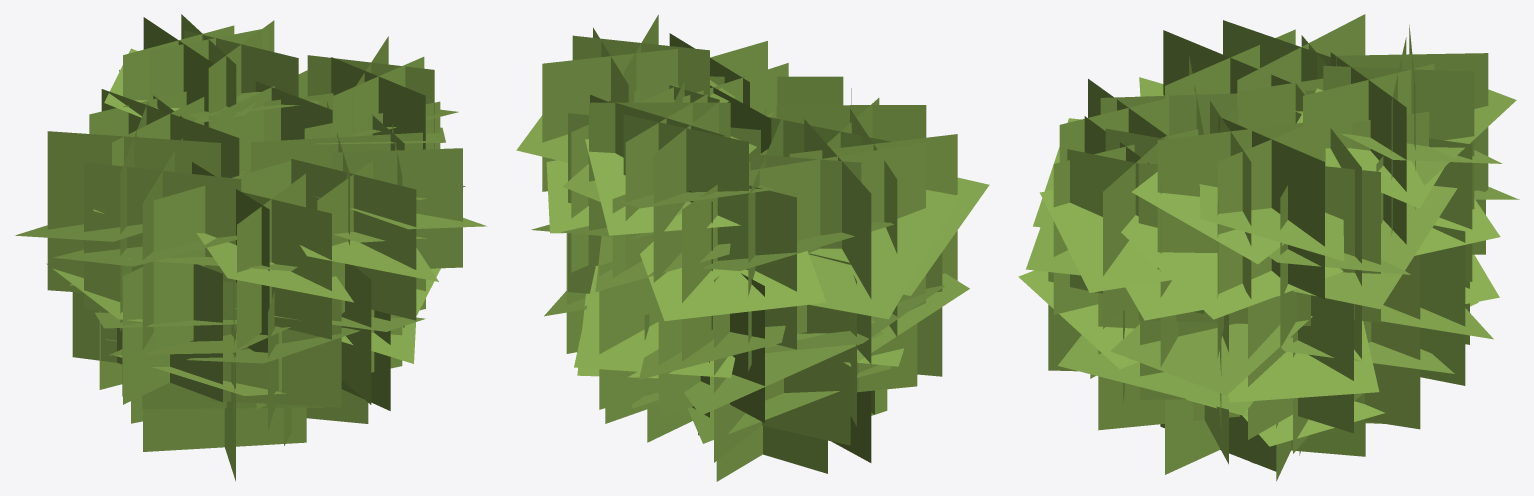
File: noisetier_2_f2_loin.glb
3 views of the same model, side by side, from view 1: azimuth 30°, elevation 25°; view 2: azimuth 150°, elevation 25°; view 3: azimuth 270°, elevation 25° (orthographic). The views are drawn at different scales.
Parts seen in each view (by area): view 1: Noisetier_T2_f2_Leger_Loin; view 2: Noisetier_T2_f2_Leger_Loin; view 3: Noisetier_T2_f2_Leger_Loin.
Part boxes in pixels (box(x1,y1,x2,y2)): Noisetier_T2_f2_Leger_Loin: box(15, 14, 486, 481); Noisetier_T2_f2_Leger_Loin: box(516, 14, 989, 481); Noisetier_T2_f2_Leger_Loin: box(1018, 14, 1519, 481).
Size of the model in its own units: 5.44 by 4.76 by 5.43.
